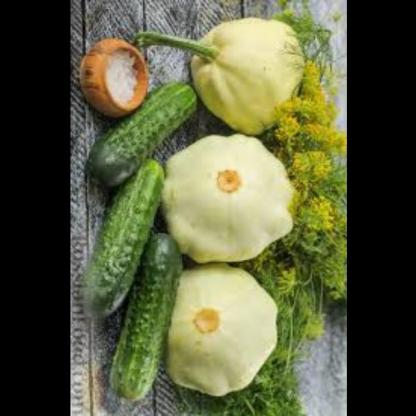cucumber: (71, 157, 167, 325), (101, 231, 189, 407), (84, 77, 201, 194)
squash-patisson: (145, 6, 305, 132), (172, 131, 307, 263), (169, 259, 280, 395)
